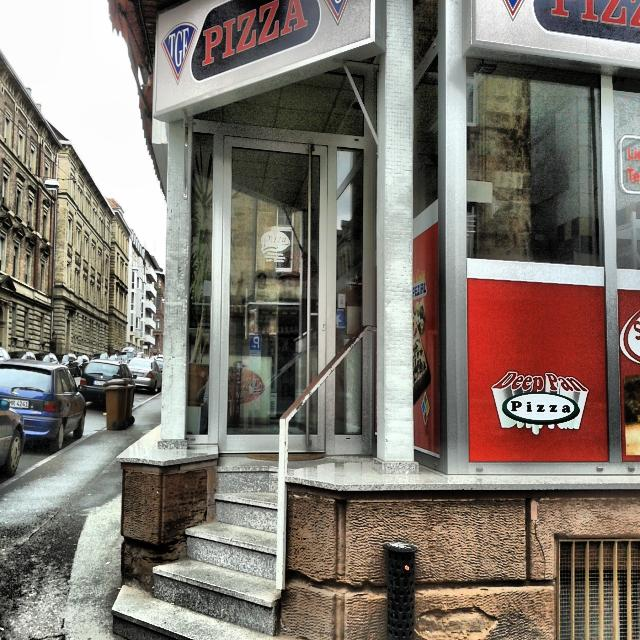escada: (116, 467, 287, 640)
